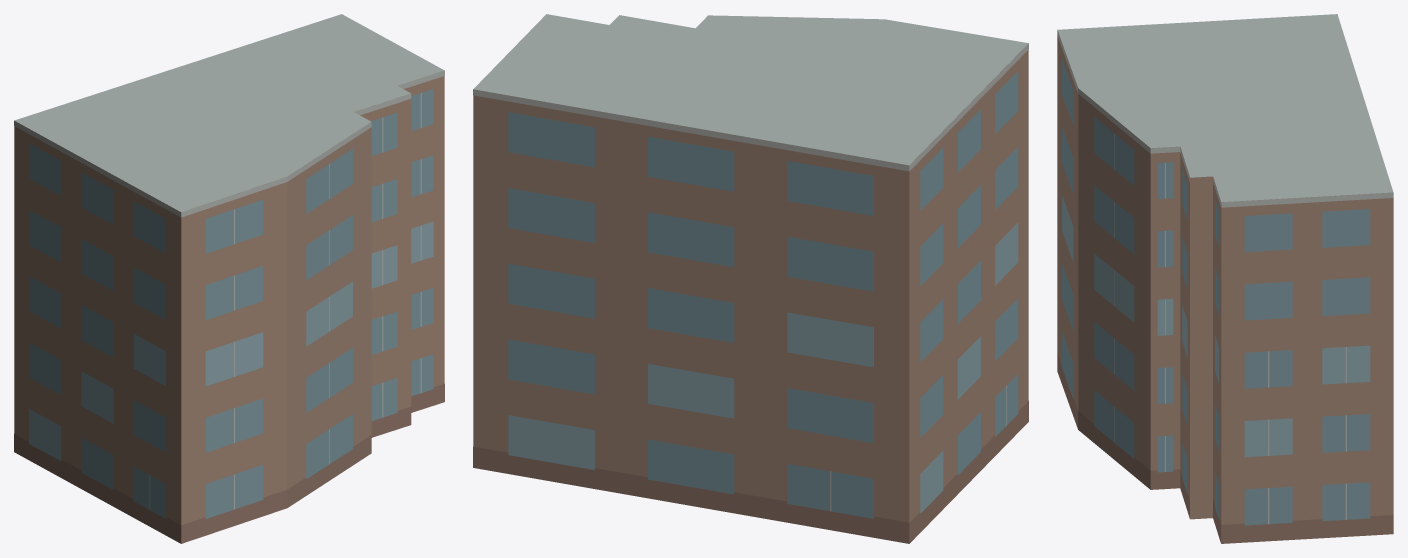
The model's file is survey-upis-32644848.glb.
3 views of the same model, side by side, from view 1: azimuth 30°, elevation 25°; view 2: azimuth 150°, elevation 25°; view 3: azimuth 270°, elevation 25° (orthographic). The views are drawn at different scales.
Parts seen in each view (by area): view 1: survey-upis-32644848.tmp; view 2: survey-upis-32644848.tmp; view 3: survey-upis-32644848.tmp.
Boxes of the visible parts, left/top/right/bottom form: survey-upis-32644848.tmp: left=14, top=14, right=444, bottom=543; survey-upis-32644848.tmp: left=473, top=14, right=1028, bottom=543; survey-upis-32644848.tmp: left=1057, top=14, right=1393, bottom=543.
Size of the model in its own units: 18.03 by 15.25 by 13.61.
